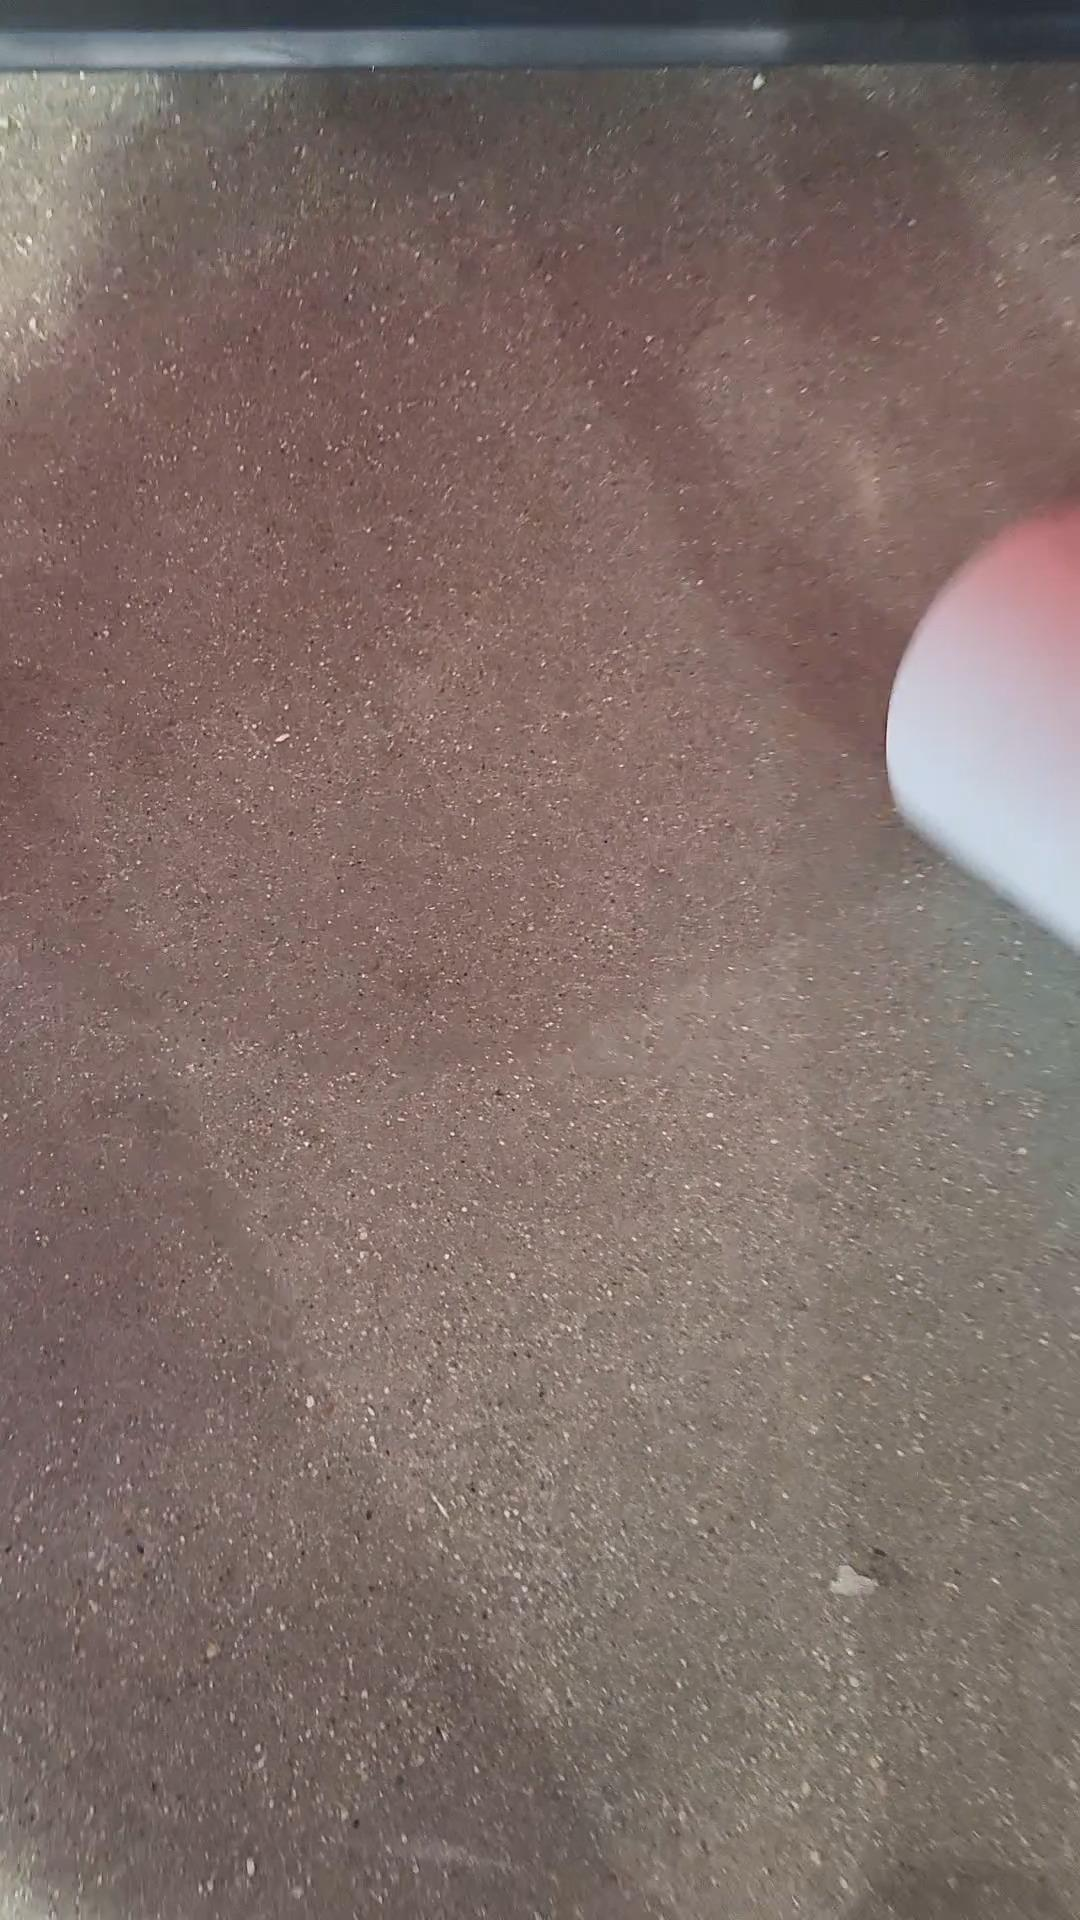coral: (861, 476, 1080, 968)
